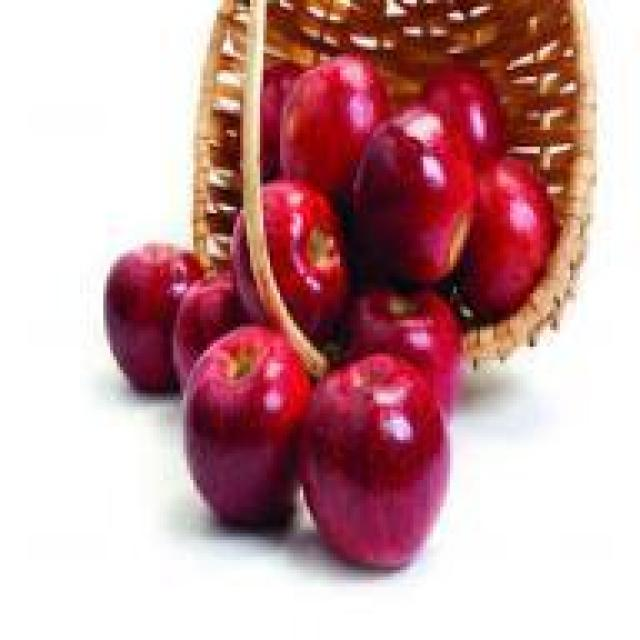apple: (307, 364, 460, 574), (220, 193, 353, 350), (187, 327, 300, 510), (370, 103, 477, 270), (347, 280, 460, 420), (107, 246, 210, 386), (273, 56, 367, 196), (473, 150, 550, 317), (416, 67, 516, 193), (166, 277, 256, 373)
